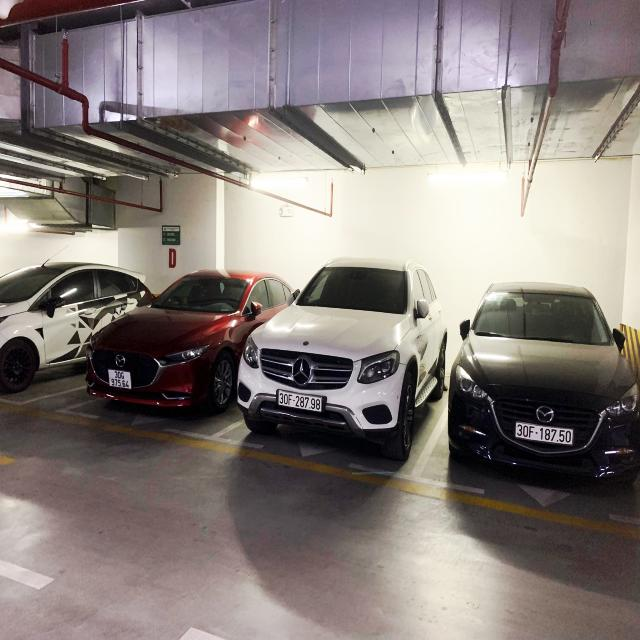license_plate: (517, 422, 575, 447), (279, 391, 323, 412), (109, 369, 132, 391)
